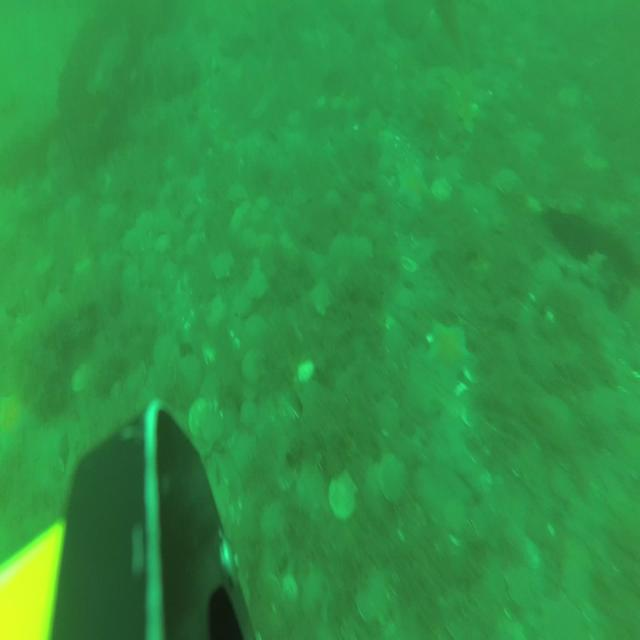scallop: (353, 563, 392, 627), (501, 556, 539, 611), (302, 567, 332, 627), (328, 467, 360, 521), (294, 461, 326, 515), (186, 393, 224, 438), (379, 451, 408, 508), (257, 498, 287, 542), (151, 332, 180, 376), (375, 390, 400, 440), (122, 353, 148, 398), (178, 351, 202, 393), (494, 166, 524, 199), (308, 280, 334, 317), (67, 362, 94, 396), (240, 349, 265, 385), (556, 82, 582, 114), (205, 294, 227, 330), (580, 146, 608, 174), (211, 249, 235, 281), (247, 268, 269, 300), (121, 261, 140, 297), (72, 250, 96, 277), (238, 398, 258, 430), (330, 230, 350, 262), (244, 311, 268, 337), (161, 260, 180, 292), (187, 231, 207, 259), (35, 252, 55, 280), (232, 291, 252, 319), (44, 289, 66, 314), (134, 207, 154, 234), (123, 224, 141, 254), (432, 176, 452, 203), (351, 237, 374, 260), (324, 187, 341, 216), (179, 198, 198, 222), (99, 202, 118, 226), (358, 190, 376, 215), (238, 225, 256, 250), (99, 245, 118, 268), (290, 185, 310, 206), (256, 232, 276, 253), (286, 106, 303, 130), (226, 183, 246, 203), (154, 233, 173, 254), (366, 109, 382, 132), (249, 104, 268, 122), (255, 193, 271, 213), (230, 210, 242, 234)
starfish: (425, 316, 475, 392), (1, 387, 37, 462), (394, 156, 430, 213)
